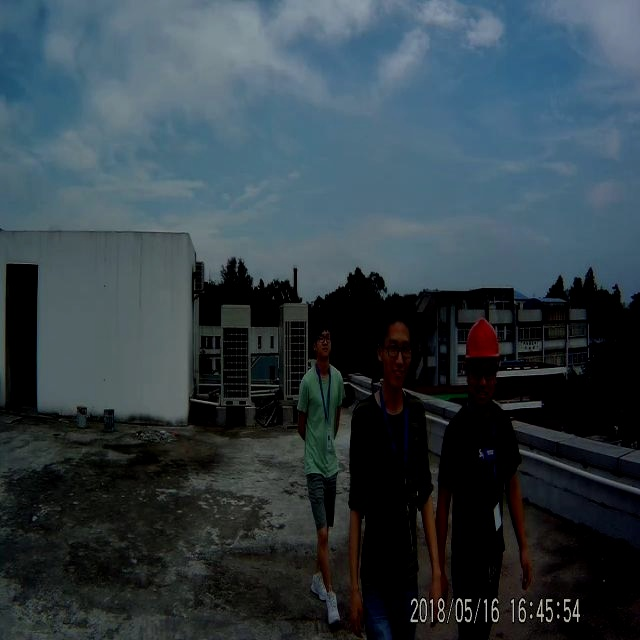Con_Casco: (467, 318, 499, 403)
Sin_Casco_Mascarrilla: (376, 302, 411, 380)
Sin_Chaleco: (350, 391, 428, 576), (440, 404, 519, 572), (299, 365, 345, 475)
